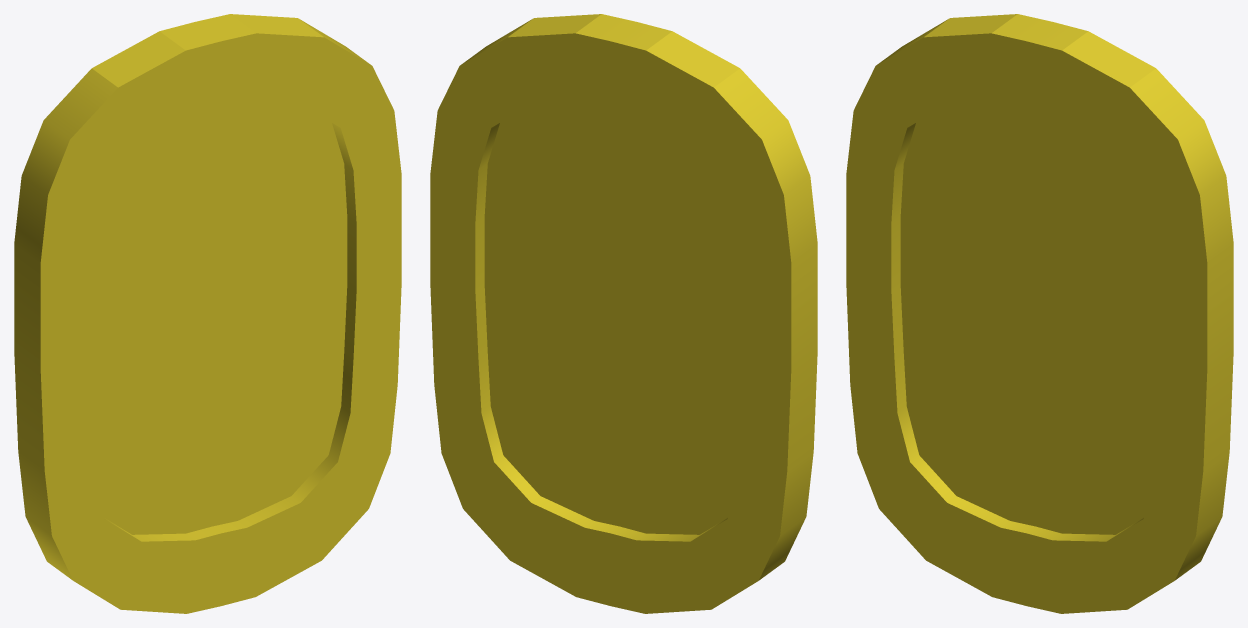
The model's file is Coin Model FBX.fbx.
The picture shows the model from 3 angles, left to right: view 1: azimuth 30°, elevation 25°; view 2: azimuth 150°, elevation 25°; view 3: azimuth 330°, elevation 25°; orthographic projection.
Visible parts, largest first — view 1: pCube1; view 2: pCube1; view 3: pCube1.
Part boxes in pixels (x1=…): pCube1: x1=14, y1=14, x2=401, y2=613; pCube1: x1=430, y1=14, x2=817, y2=613; pCube1: x1=846, y1=14, x2=1233, y2=613.
Bounding box in the file's own units: 1.18 × 1.76 × 0.1494.
